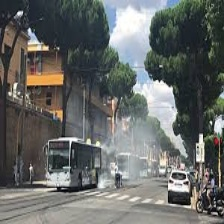smoke: (89, 128, 136, 190)
